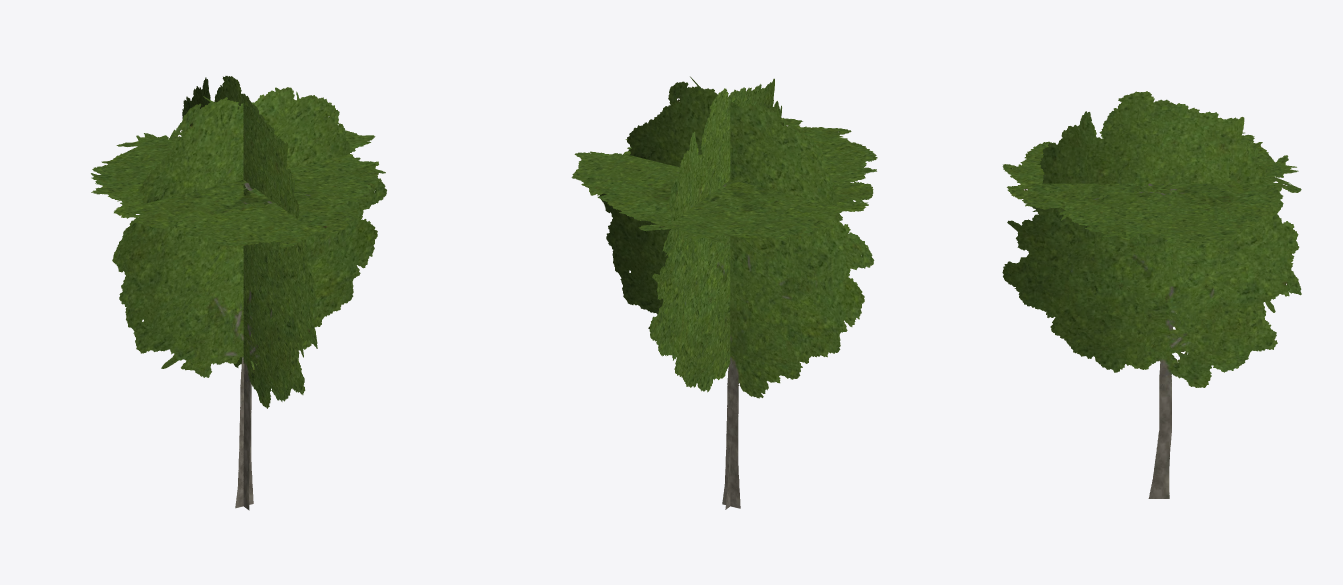
The model's file is arbre_feuillu_jeune_lod2.glb.
The picture shows the model from 3 angles, left to right: view 1: azimuth 30°, elevation 25°; view 2: azimuth 150°, elevation 25°; view 3: azimuth 270°, elevation 25°; orthographic projection. The views are drawn at different scales.
Parts seen in each view (by area): view 1: arbre_feuillu_jeune_lod2; view 2: arbre_feuillu_jeune_lod2; view 3: arbre_feuillu_jeune_lod2.
Boxes of the visible parts, x1,y1,x2,y2 form: arbre_feuillu_jeune_lod2: (91, 76, 386, 510); arbre_feuillu_jeune_lod2: (571, 76, 877, 509); arbre_feuillu_jeune_lod2: (1002, 91, 1301, 498).
Bounding box in the file's own units: 4.65 × 6.21 × 4.65.
1 material, 1 textured.
